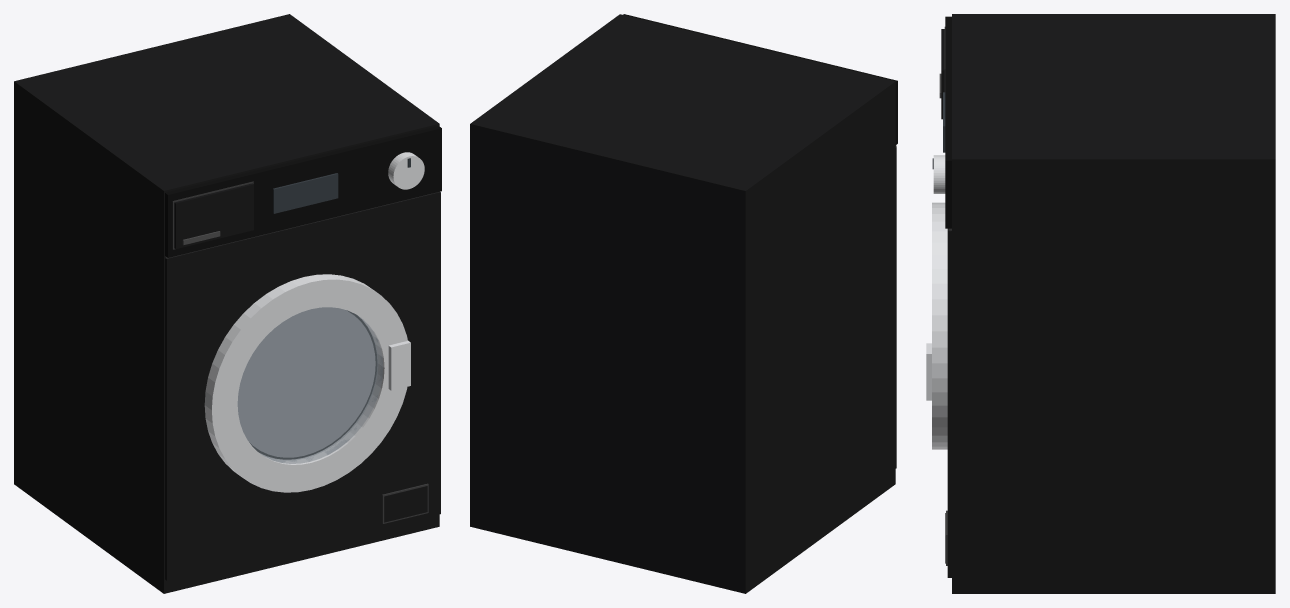
Rendered from waschmaschine-schwarz.glb.
3 renders of one model, left to right at view 1: azimuth 30°, elevation 25°; view 2: azimuth 150°, elevation 25°; view 3: azimuth 270°, elevation 25°, orthographic. The views are drawn at different scales.
Visible parts, largest first — view 1: Gehäuse, Chrom, Glas, Trommel, Bedienblende, Display, Fuge; view 2: Gehäuse, Bedienblende; view 3: Gehäuse, Chrom, Bedienblende.
Boxes of the visible parts, left/top/right/bottom form: Gehäuse: left=14, top=14, right=440, bottom=593; Chrom: left=204, top=152, right=424, bottom=492; Glas: left=237, top=307, right=383, bottom=463; Trommel: left=238, top=307, right=375, bottom=457; Bedienblende: left=165, top=126, right=441, bottom=257; Display: left=273, top=158, right=410, bottom=213; Fuge: left=165, top=181, right=439, bottom=523; Gehäuse: left=470, top=14, right=896, bottom=593; Bedienblende: left=623, top=14, right=897, bottom=144; Gehäuse: left=941, top=14, right=1275, bottom=593; Chrom: left=926, top=155, right=947, bottom=449; Bedienblende: left=945, top=16, right=951, bottom=228.
Size of the model in its own units: 0.6 by 0.85 by 0.61.
